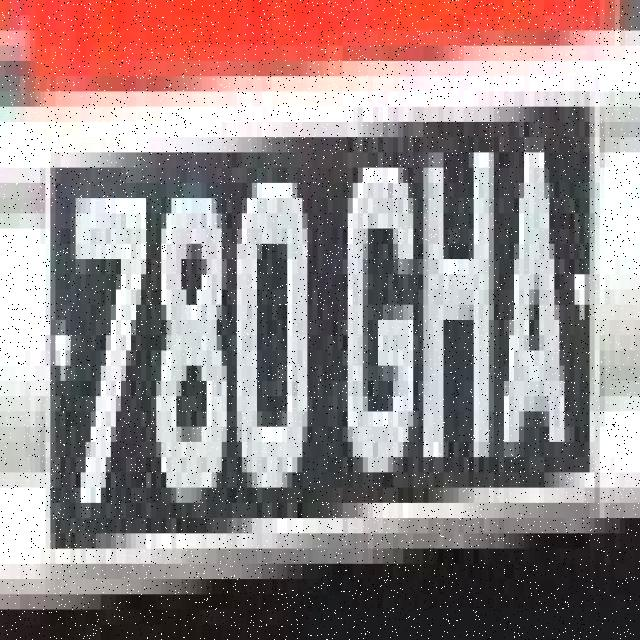licenseplate: (30, 74, 608, 580)
